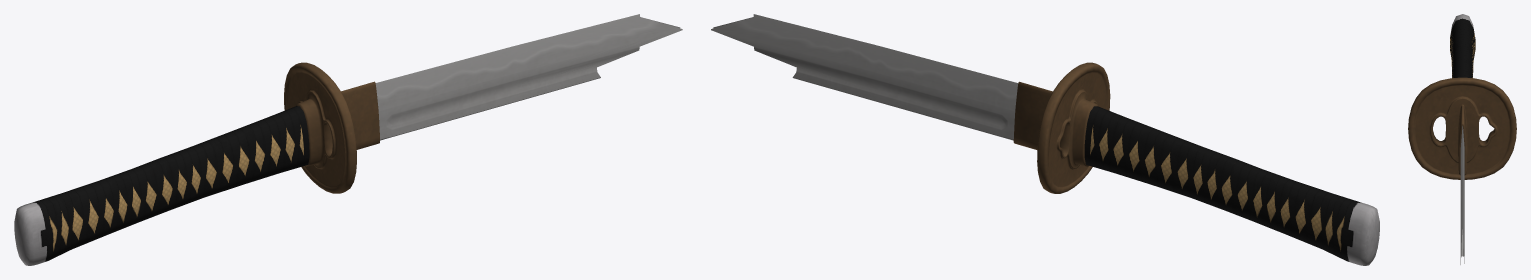
The model's file is katana.FBX.
3 renders of one model, left to right at view 1: azimuth 30°, elevation 25°; view 2: azimuth 150°, elevation 25°; view 3: azimuth 270°, elevation 25°, orthographic. The views are drawn at different scales.
Visible parts, largest first — view 1: default; view 2: default; view 3: default.
Boxes of the visible parts, x1=… form: default: x1=14, y1=14, x2=682, y2=265; default: x1=711, y1=14, x2=1379, y2=265; default: x1=1408, y1=14, x2=1516, y2=264.
Bounding box in the file's own units: 0.0573 × 0.0103 × 0.0098.
